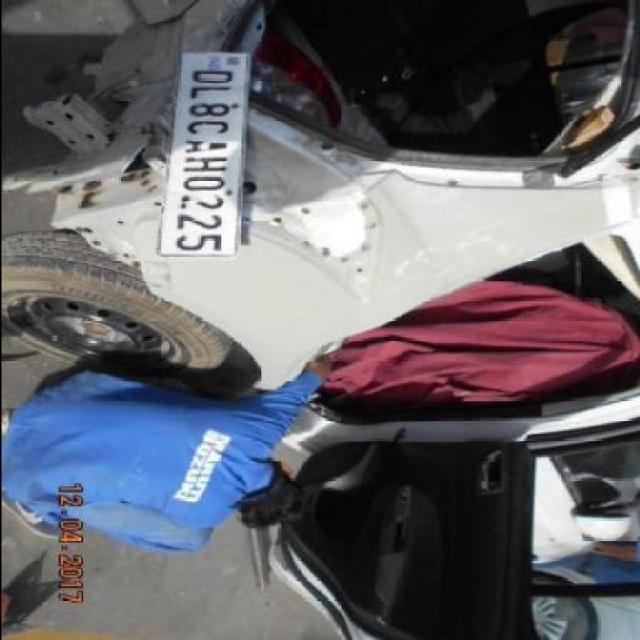damage: (0, 0, 385, 300)
